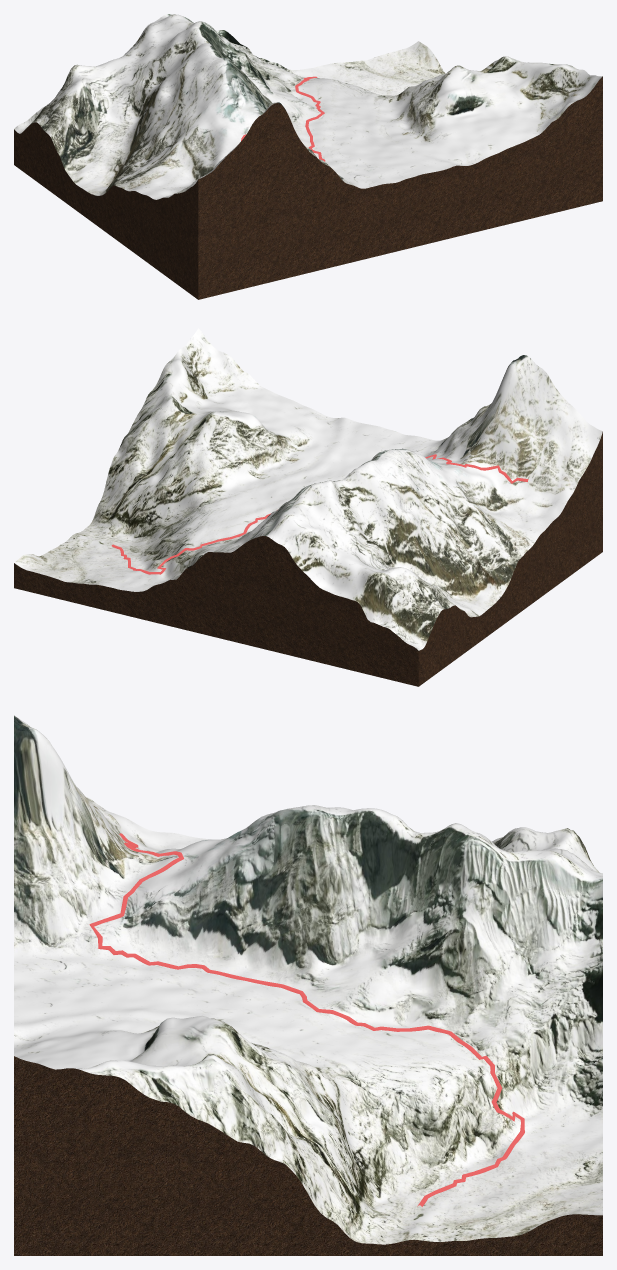
3 views of the same model, one above another, from view 1: azimuth 30°, elevation 25°; view 2: azimuth 150°, elevation 25°; view 3: azimuth 270°, elevation 25° (orthographic). The views are drawn at different scales.
Parts seen in each view (by area): view 1: mesh, sideN, sideE, defaultPath; view 2: mesh, sideS, sideE, defaultPath; view 3: mesh, sideW, defaultPath.
Boxes of the visible parts, x1=… form: mesh: x1=14, y1=14, x2=602, y2=199; sideN: x1=198, y1=76, x2=602, y2=299; sideE: x1=14, y1=122, x2=198, y2=299; defaultPath: x1=241, y1=76, x2=325, y2=161; mesh: x1=14, y1=328, x2=602, y2=650; sideS: x1=14, y1=536, x2=418, y2=686; sideE: x1=418, y1=432, x2=602, y2=686; defaultPath: x1=111, y1=454, x2=528, y2=574; mesh: x1=14, y1=715, x2=602, y2=1244; sideW: x1=14, y1=1056, x2=602, y2=1255; defaultPath: x1=89, y1=833, x2=524, y2=1206.
Size of the model in its own units: 30 by 12.6 by 23.67.
4 materials, 2 textured.
